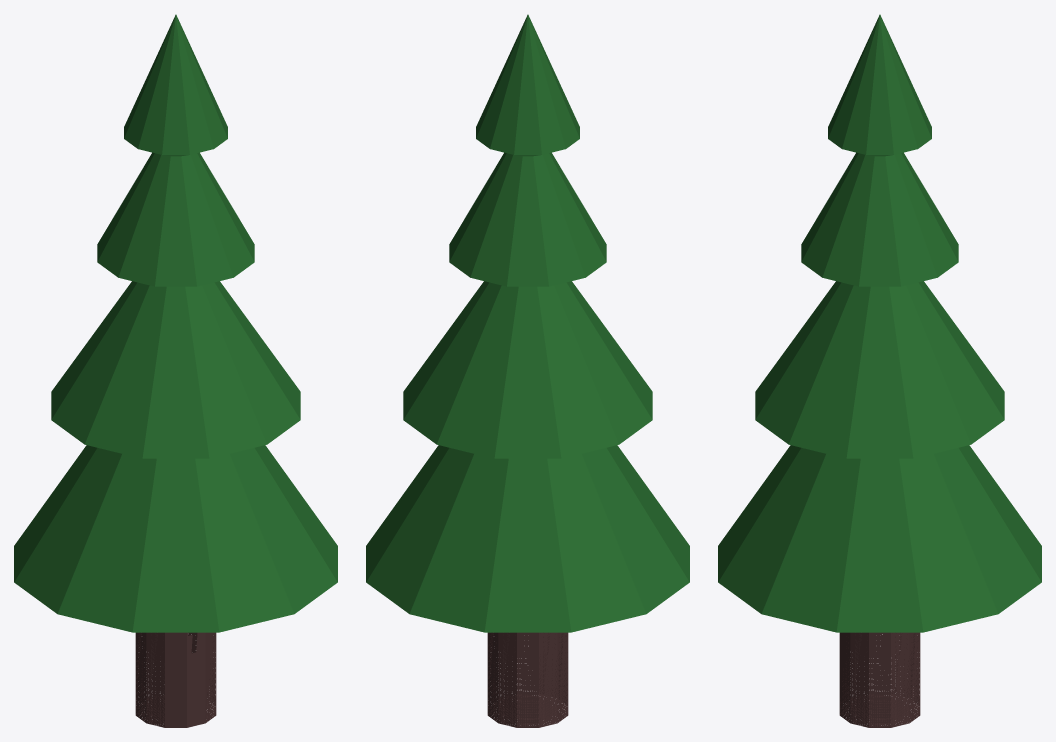
Rendered from Tree.fbx.
The picture shows the model from 3 angles, left to right: view 1: azimuth 30°, elevation 25°; view 2: azimuth 150°, elevation 25°; view 3: azimuth 270°, elevation 25°; orthographic projection.
Visible parts, largest first — view 1: cylinder; view 2: cylinder; view 3: cylinder.
Boxes of the visible parts, box(x1,y1,x2,y2) form: cylinder: box(14, 14, 337, 727); cylinder: box(366, 14, 689, 727); cylinder: box(718, 14, 1041, 727).
Size of the model in its own units: 100 by 238 by 100.
Materials: 1 (1 with a texture image).
